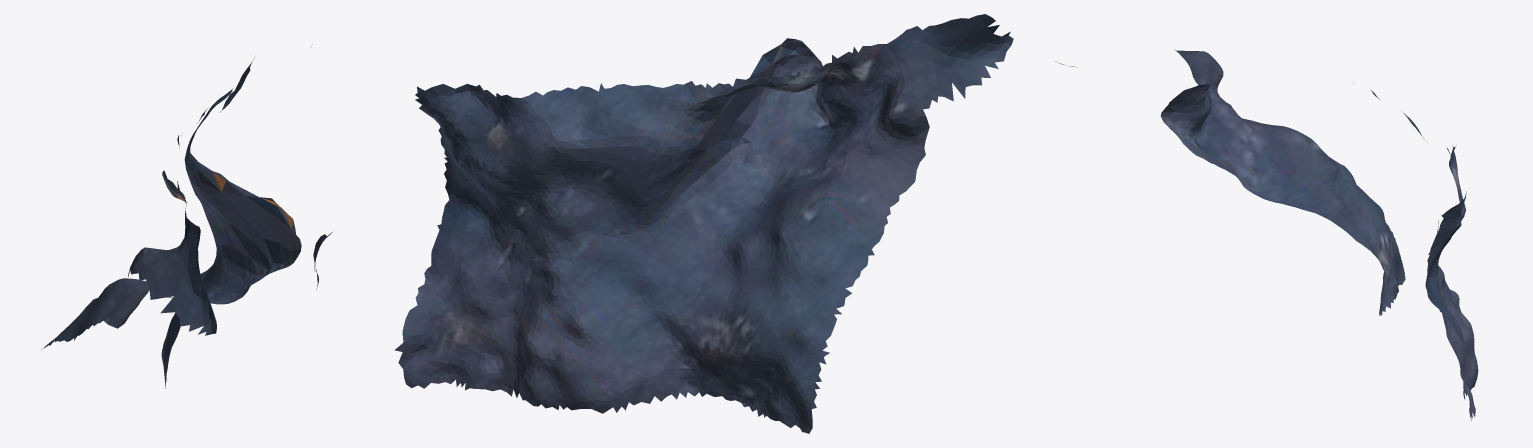
File: tile_0332.gltf
3 renders of one model, left to right at view 1: azimuth 30°, elevation 25°; view 2: azimuth 150°, elevation 25°; view 3: azimuth 270°, elevation 25°, orthographic. The views are drawn at different scales.
Visible parts, largest first — view 1: defaultobject; view 2: defaultobject; view 3: defaultobject.
Boxes of the visible parts, x1,y1,x2,y2 form: defaultobject: [41, 44, 332, 388]; defaultobject: [394, 14, 1013, 433]; defaultobject: [1055, 49, 1478, 421].
Bounding box in the file's own units: 0.3011 × 0.2397 × 0.3788.
Materials: 2 (2 with a texture image).
